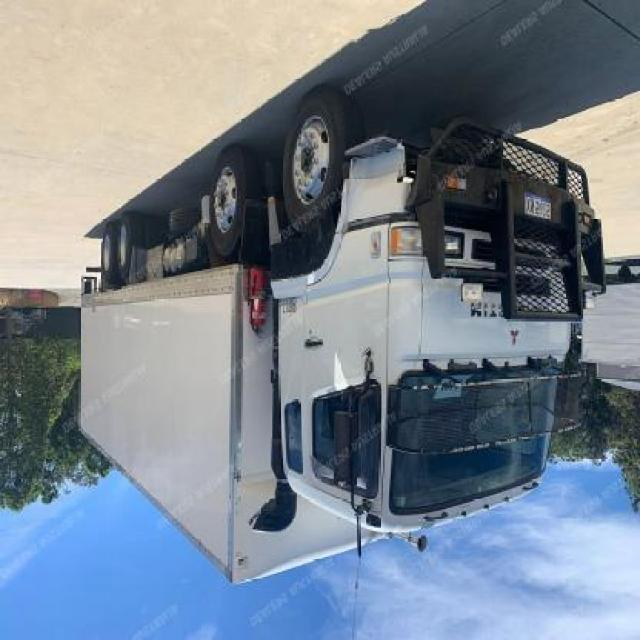truck: (81, 86, 609, 591)
